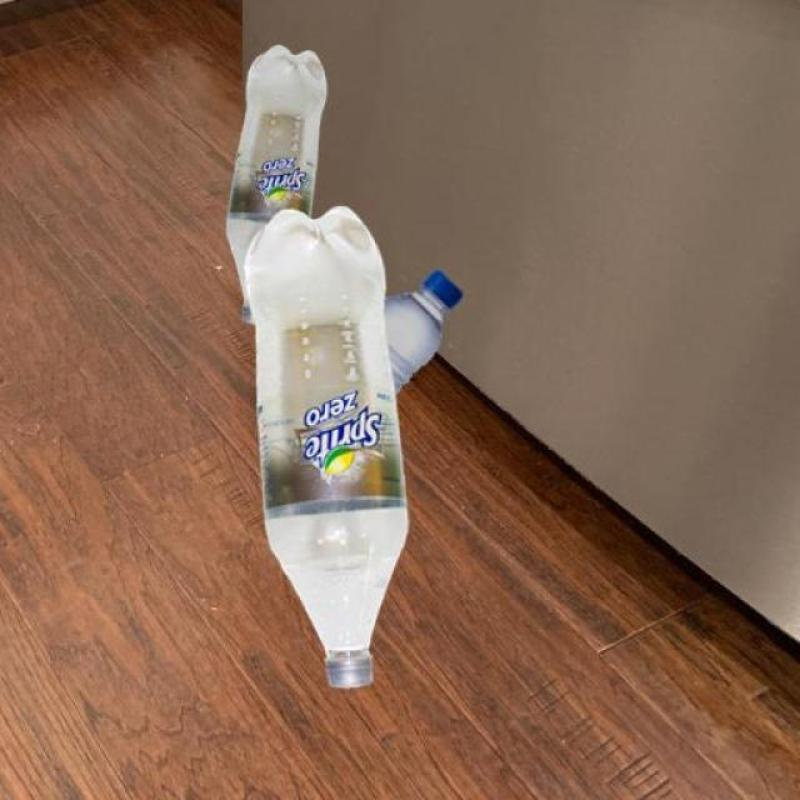botella: (240, 209, 412, 690), (224, 45, 328, 326), (381, 270, 463, 399)
